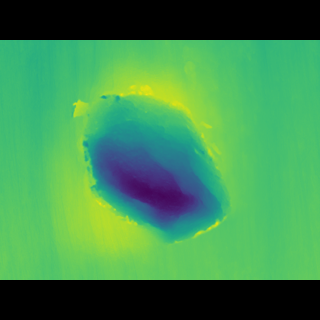Loch: (65, 77, 238, 227)
